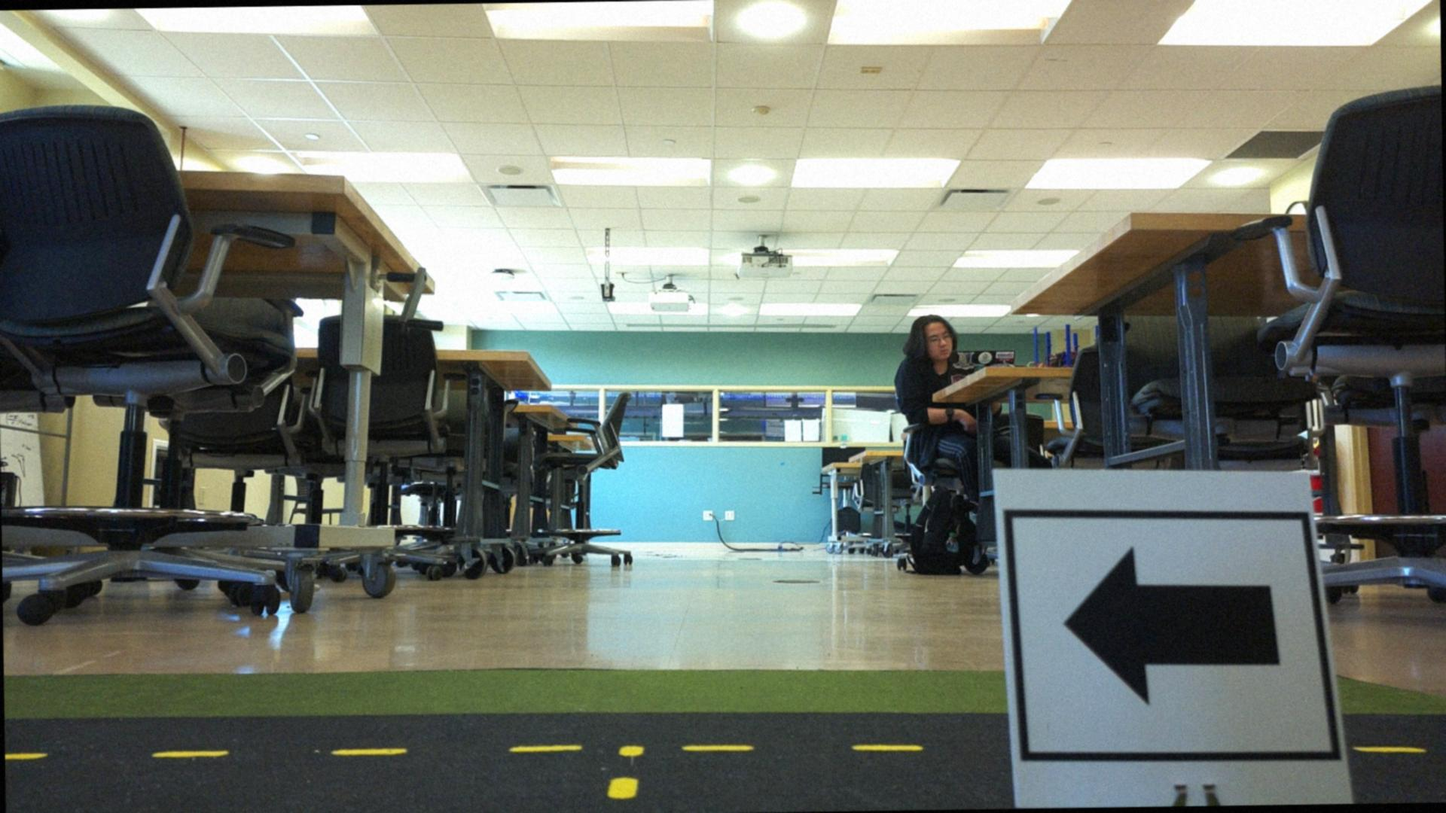turnright: (1015, 517, 1312, 766)
yellowline: (5, 738, 924, 766), (604, 744, 645, 803)
